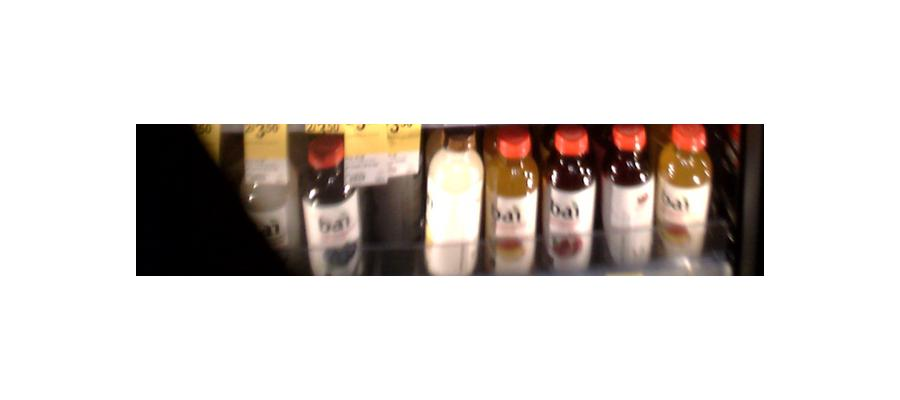bottle: (298, 126, 361, 272), (424, 122, 481, 277), (540, 130, 599, 272), (483, 129, 541, 272), (601, 127, 658, 269), (243, 129, 301, 267), (659, 124, 710, 263)
